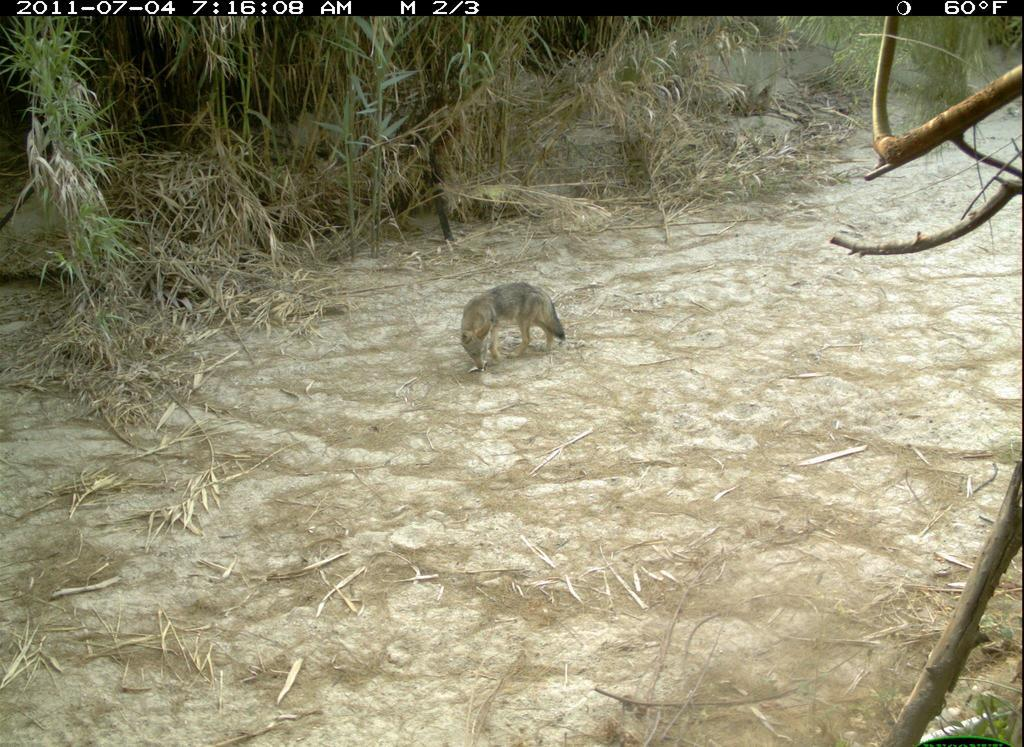coyote: (450, 273, 577, 379)
